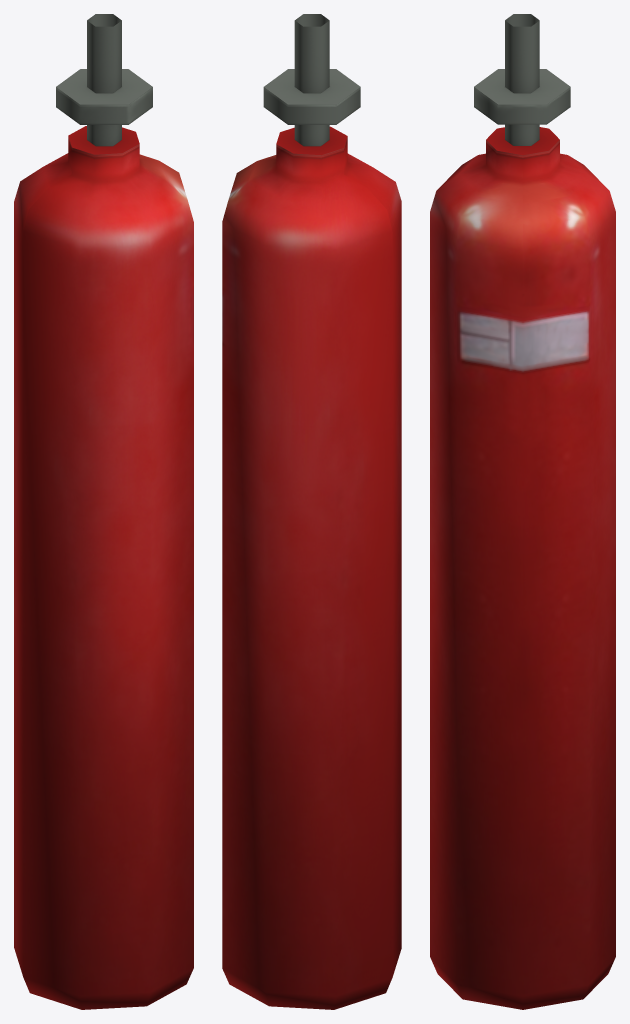
File: GasBarrel.FBX
3 renders of one model, left to right at view 1: azimuth 30°, elevation 25°; view 2: azimuth 150°, elevation 25°; view 3: azimuth 270°, elevation 25°, orthographic.
Visible parts, largest first — view 1: GasBarrel; view 2: GasBarrel; view 3: GasBarrel.
Part boxes in pixels (box(x1,y1,x2,y2)): GasBarrel: box(14, 14, 193, 1009); GasBarrel: box(222, 14, 401, 1009); GasBarrel: box(430, 14, 615, 1009).
Size of the model in its own units: 0.3116 by 1.79 by 0.3116.
